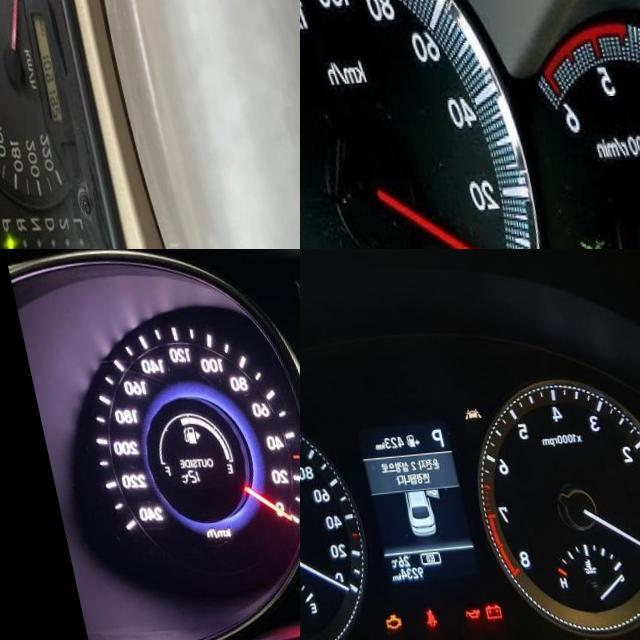LaneCenteringOff: (450, 413, 470, 426)
